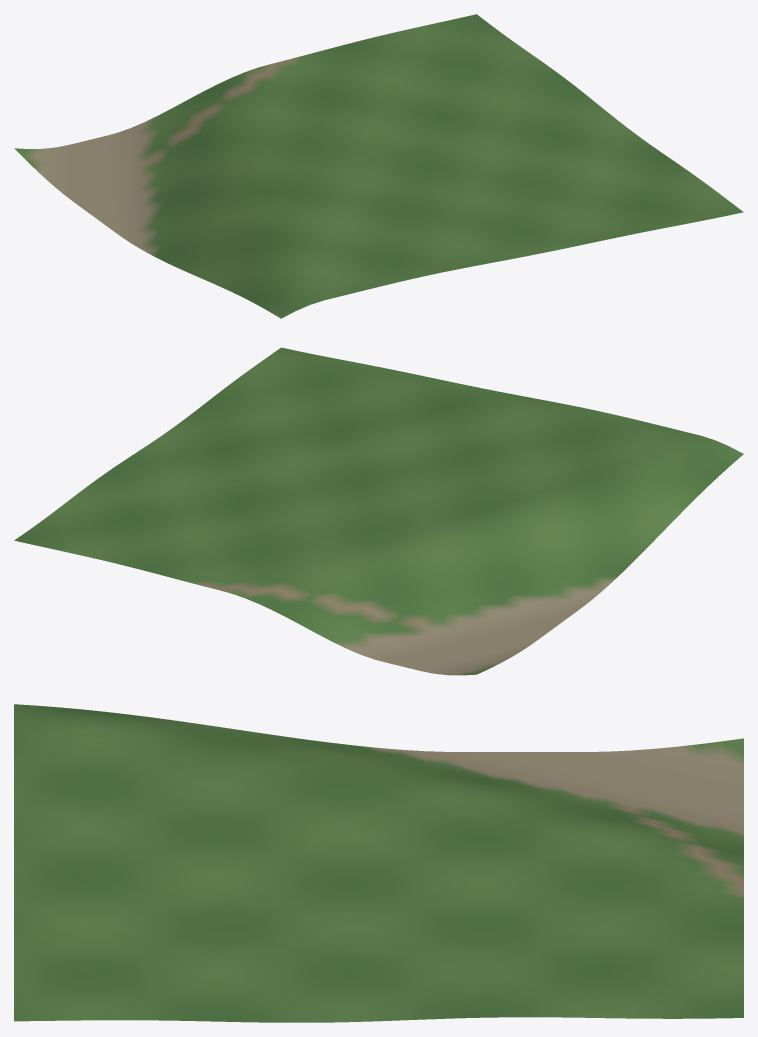
File: chunk_4_3.glb
3 renders of one model, top to bottom at view 1: azimuth 30°, elevation 25°; view 2: azimuth 150°, elevation 25°; view 3: azimuth 270°, elevation 25°, orthographic. The views are drawn at different scales.
Bounding box in the file's own units: 512 × 46.9 × 512.
